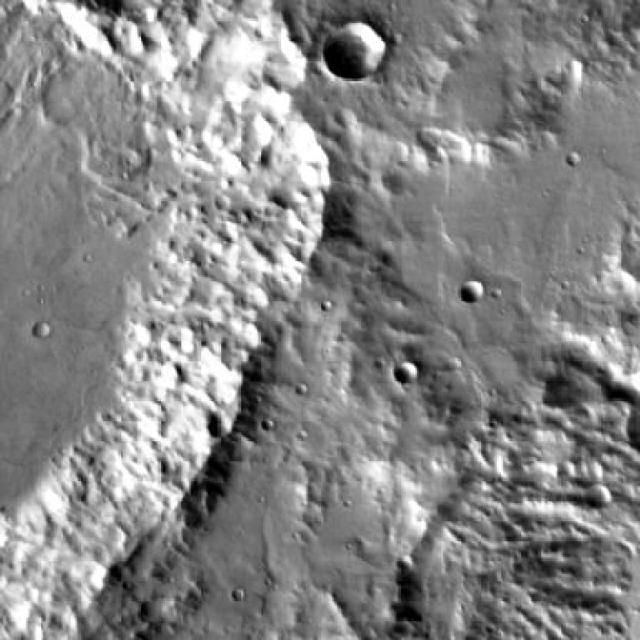crater: (0, 0, 323, 640), (320, 23, 385, 82), (457, 280, 483, 303), (394, 362, 418, 384), (32, 322, 50, 338)
